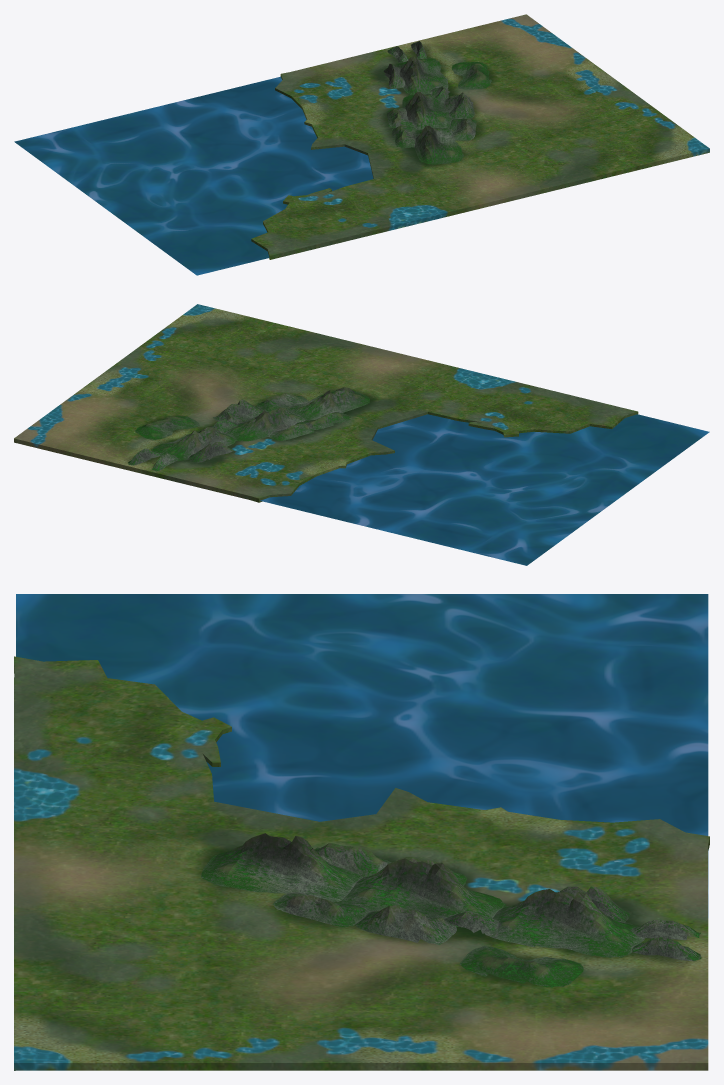
The model's file is Mapa.glb.
The picture shows the model from 3 angles, top to bottom: view 1: azimuth 30°, elevation 25°; view 2: azimuth 150°, elevation 25°; view 3: azimuth 270°, elevation 25°; orthographic projection. The views are drawn at different scales.
Visible parts, largest first — view 1: Plane, Plane.002, montanaslow3; view 2: Plane, Plane.002, montanaslow3; view 3: Plane, Plane.002, montanaslow3.
Part boxes in pixels (box(x1,y1,x2,y2)): Plane: box(251, 14, 709, 259); Plane.002: box(14, 76, 373, 275); montanaslow3: box(383, 41, 491, 164); Plane: box(14, 304, 638, 502); Plane.002: box(260, 414, 709, 565); montanaslow3: box(128, 387, 369, 471); Plane: box(14, 656, 709, 1070); Plane.002: box(16, 594, 708, 917); montanaslow3: box(201, 833, 701, 987).
Bounding box in the file's own units: 4.99 × 0.2169 × 3.1.
3 materials, 3 textured.
